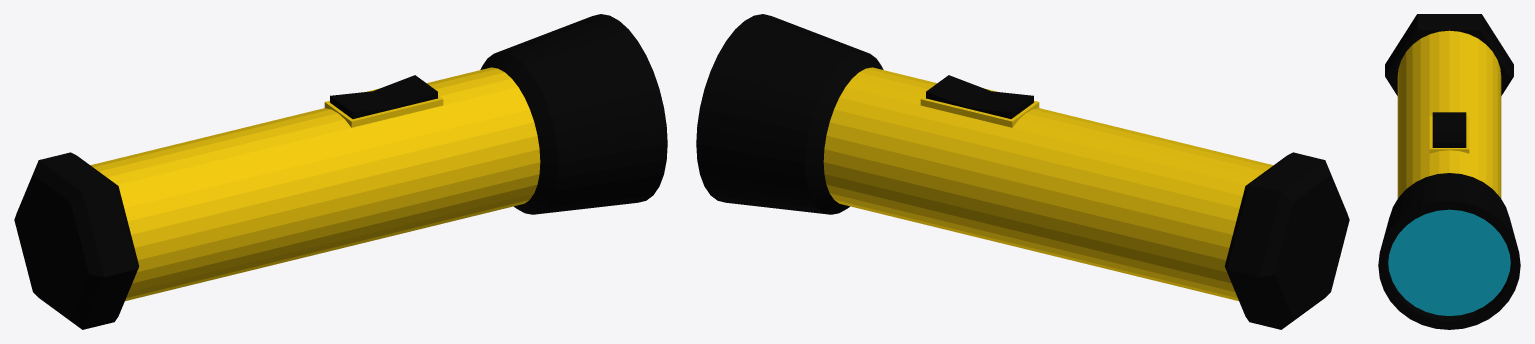
Rendered from _lashLight.fbx.
The picture shows the model from 3 angles, left to right: view 1: azimuth 30°, elevation 25°; view 2: azimuth 150°, elevation 25°; view 3: azimuth 270°, elevation 25°; orthographic projection. The views are drawn at different scales.
Visible parts, largest first — view 1: Cylinder.077; view 2: Cylinder.077; view 3: Cylinder.077.
Boxes of the visible parts, x1,y1,x2,y2 form: Cylinder.077: (14, 14, 667, 329); Cylinder.077: (696, 14, 1349, 329); Cylinder.077: (1378, 14, 1520, 329).
Size of the model in its own units: 26.05 by 7.68 by 7.68.
